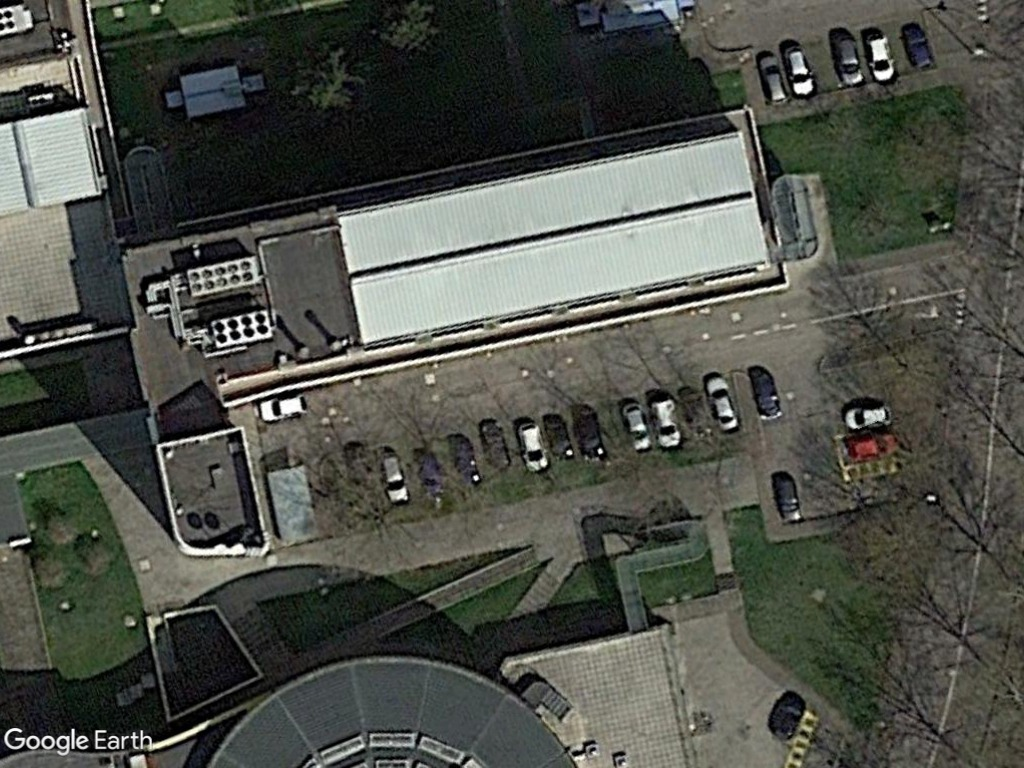car: (700, 370, 742, 434), (370, 448, 413, 508), (778, 40, 819, 100), (752, 47, 791, 107), (768, 471, 807, 528), (648, 395, 687, 452), (513, 419, 552, 476), (618, 399, 657, 455), (860, 28, 898, 85), (254, 389, 311, 427), (830, 28, 865, 88), (898, 21, 936, 74), (841, 402, 895, 434)
other: (745, 364, 785, 424), (842, 426, 900, 464)
